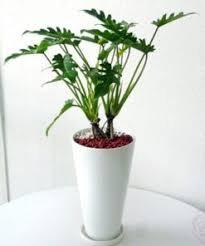ylang-ylang: (158, 176, 204, 207), (147, 28, 173, 60), (67, 181, 90, 202)
